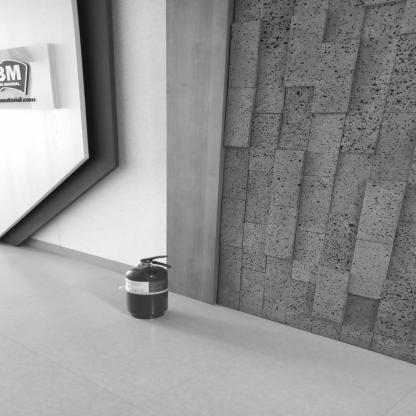FE: (123, 254, 170, 319)
